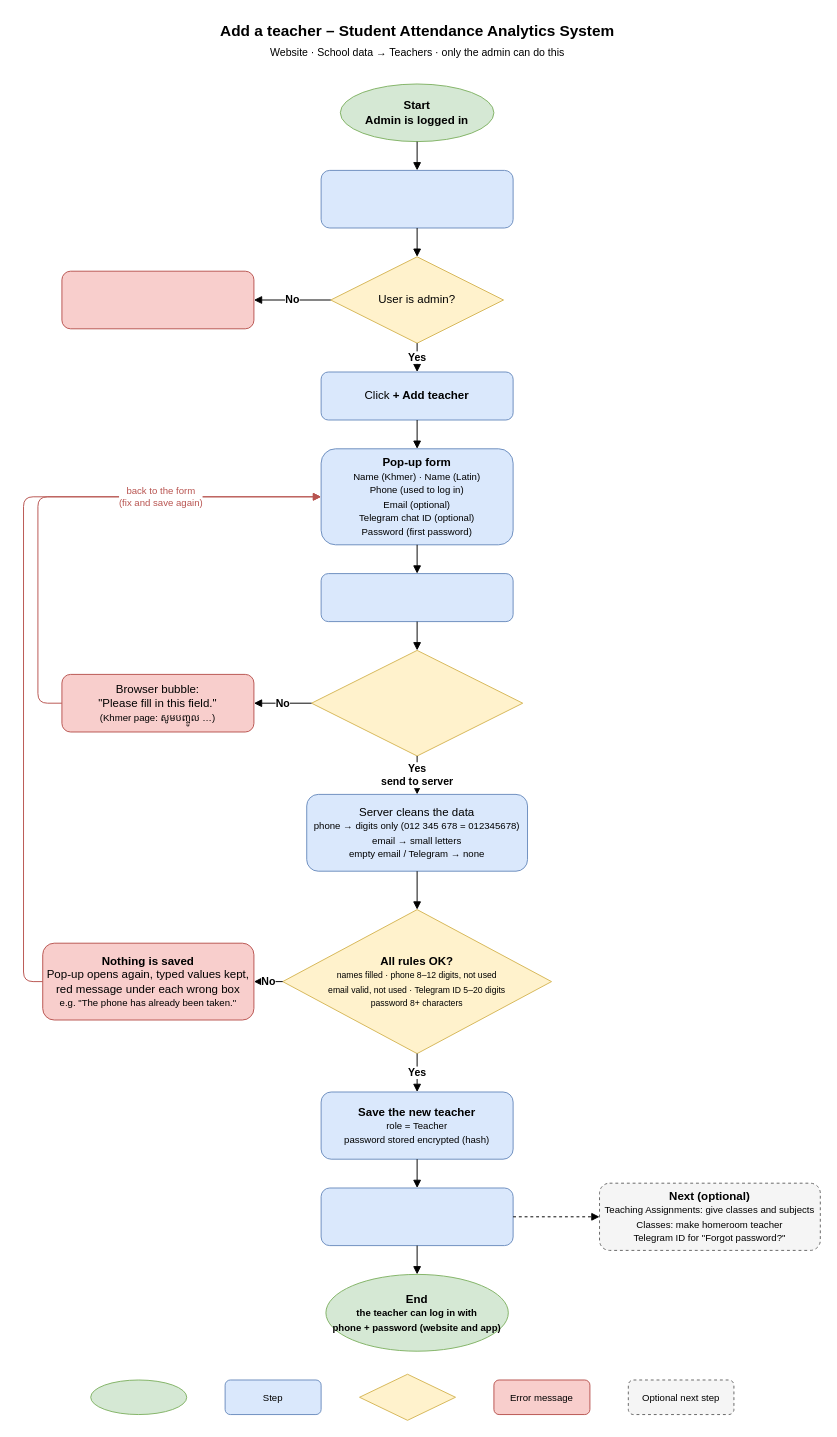
This 837x1437 diagram has some shape labels left out. Each missing label, with the centre of its shape:
"No permission" page (403) teachers cannot add teachers: (157,299)
Admin fills in and clicks Save teacher: (416,597)
Decision: (407,1396)
Green message "Teacher saved." the new teacher is in the list: (416,1216)
Names and phone filled? (checked by the browser): (417,702)
Open Teachers page (/teachers) list of teachers, classes, hours: (416,198)
Start / End: (138,1397)
